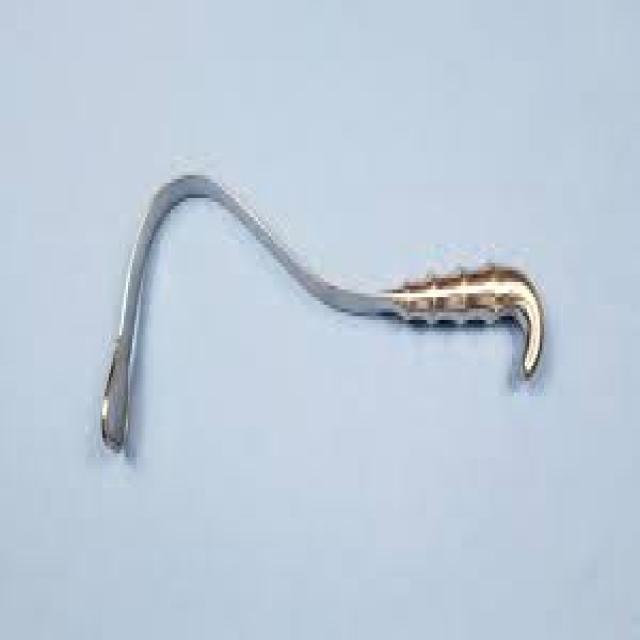Hrrington retractor: (98, 159, 549, 461)
